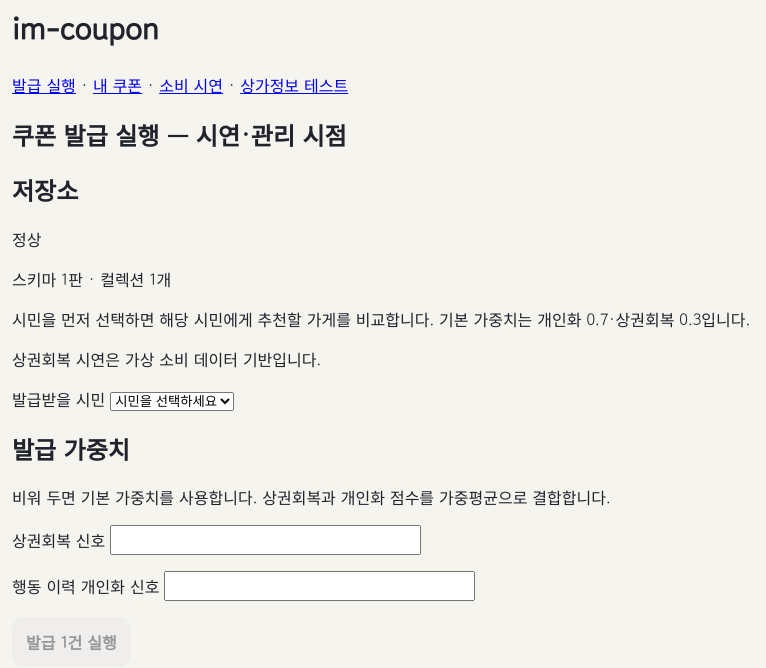
Scenario: App › 내 쿠폰 화면에서 발급 실행 화면으로 되돌아온다
Click the link "내 쿠폰" at x=118, y=85, box top-left (93, 73), bottom-right (142, 97)
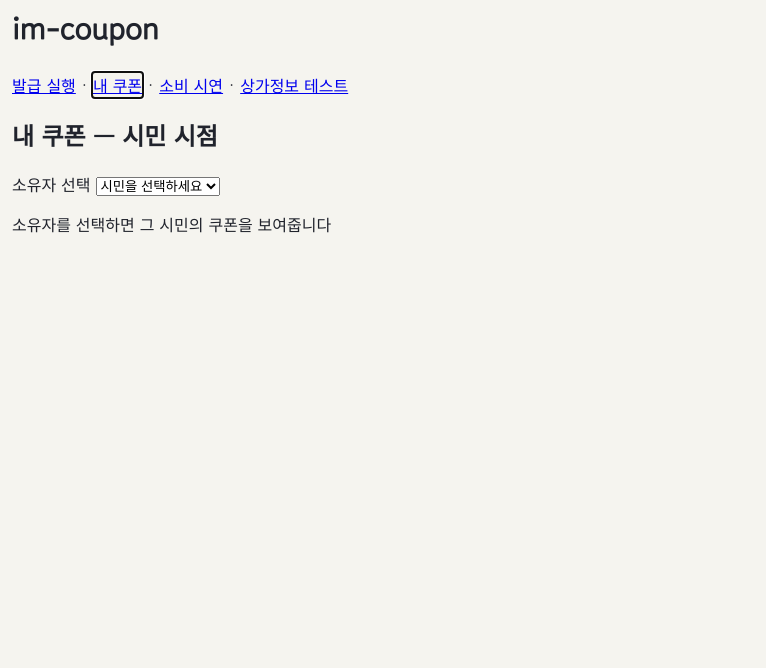
Click the link "발급 실행" at x=44, y=85, box top-left (12, 73), bottom-right (76, 97)
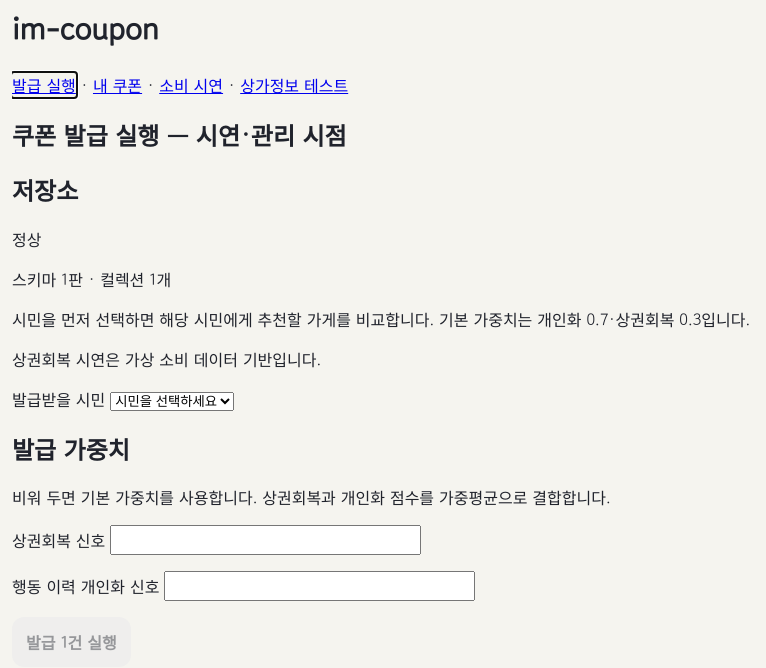
Now the heading "내 쿠폰 — 시민 시점" is gone
Now the text "정상" is shown, box top-left (12, 227), bottom-right (42, 251)
